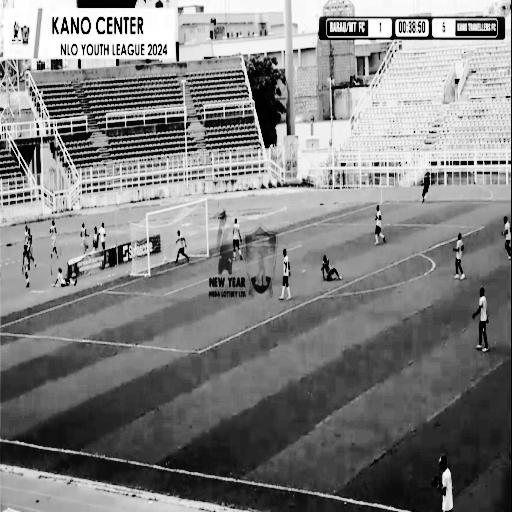ball: (163, 253, 168, 268)
distract: (424, 450, 464, 512)
keeper2: (318, 248, 351, 288)
referee: (414, 172, 435, 206)
team1: (276, 246, 295, 312), (369, 200, 391, 251), (230, 217, 243, 266)
team2: (470, 278, 497, 362), (448, 229, 467, 284), (174, 226, 194, 268), (500, 212, 512, 262)
